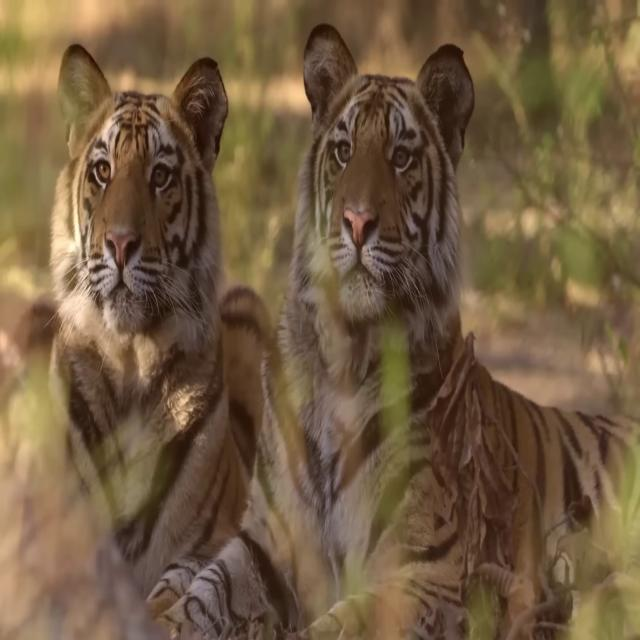tiger: (152, 20, 640, 640), (0, 40, 274, 639)
